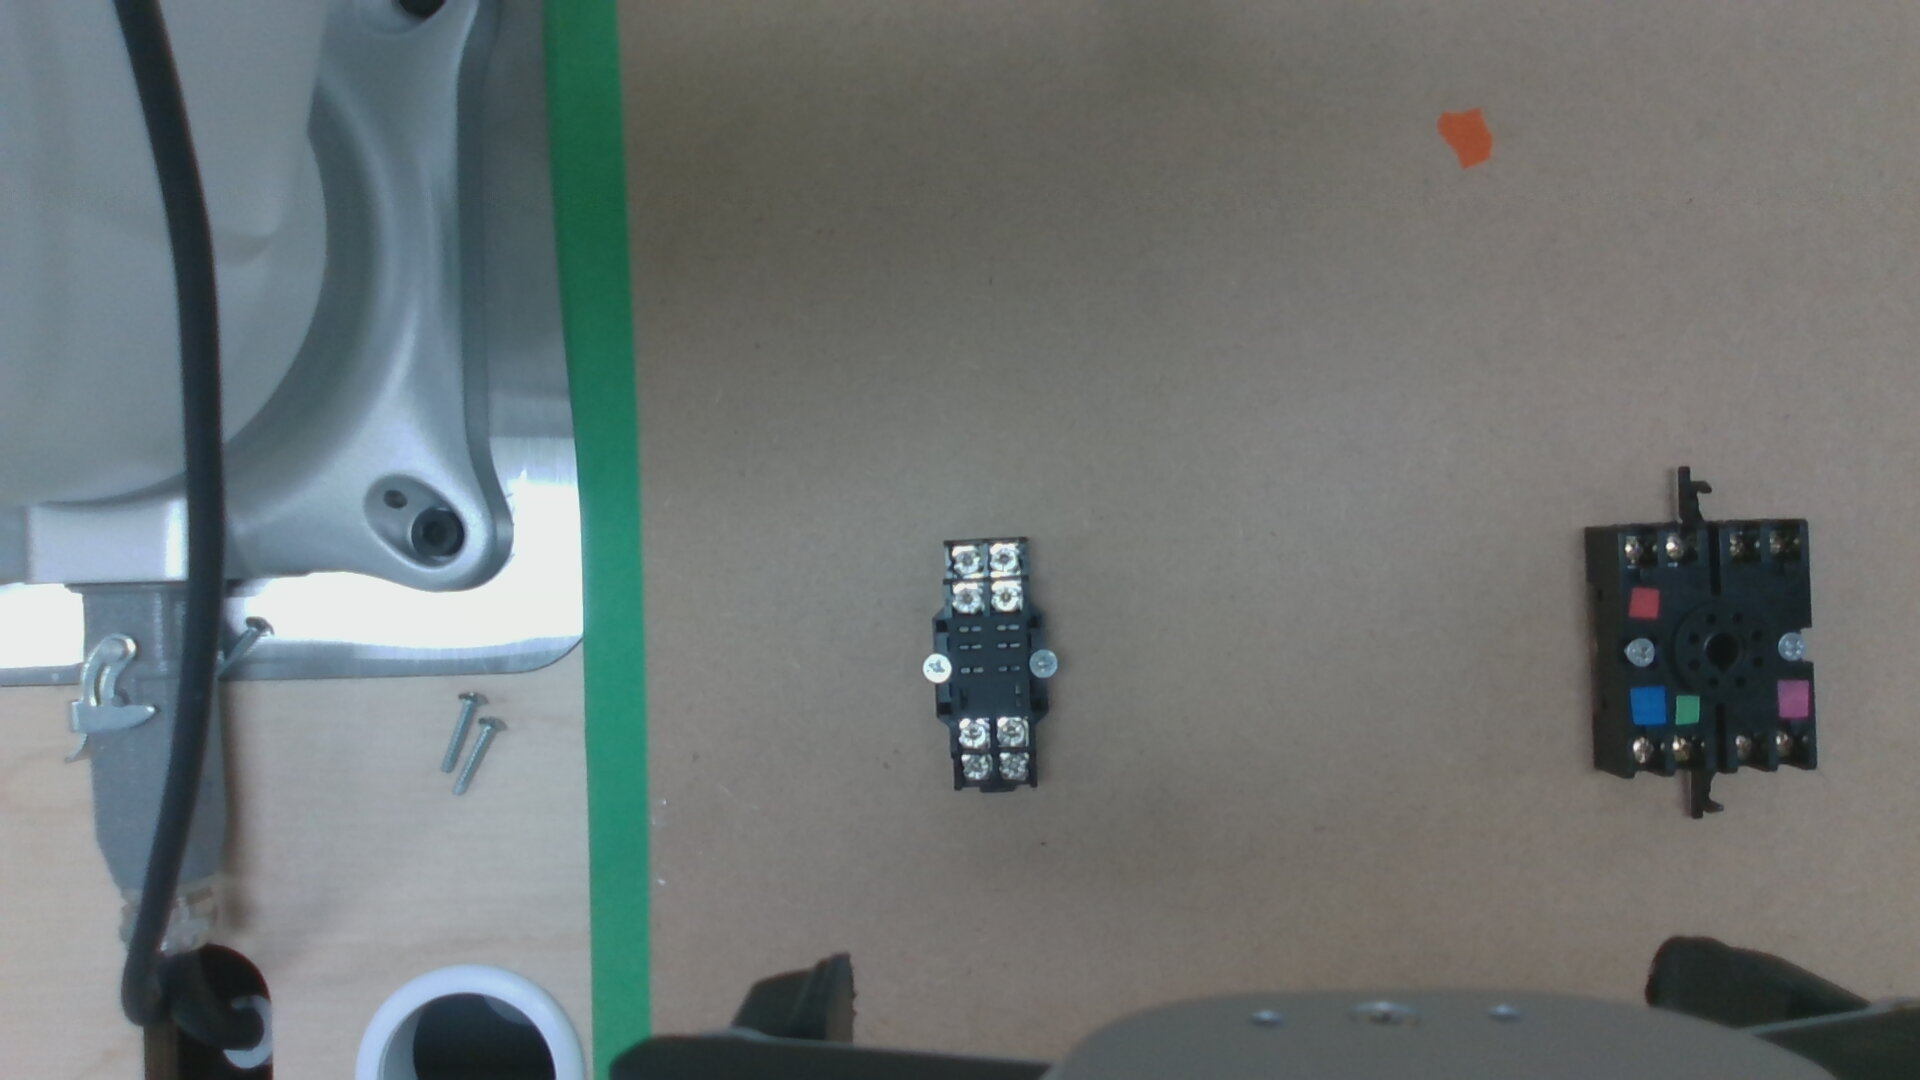relay 3: (990, 545, 1018, 572)
relay 4: (949, 546, 982, 578)
relay 5: (996, 753, 1029, 779)
relay 6: (960, 753, 990, 781)
relay 7: (996, 716, 1026, 746)
relay 8: (957, 720, 990, 746)
